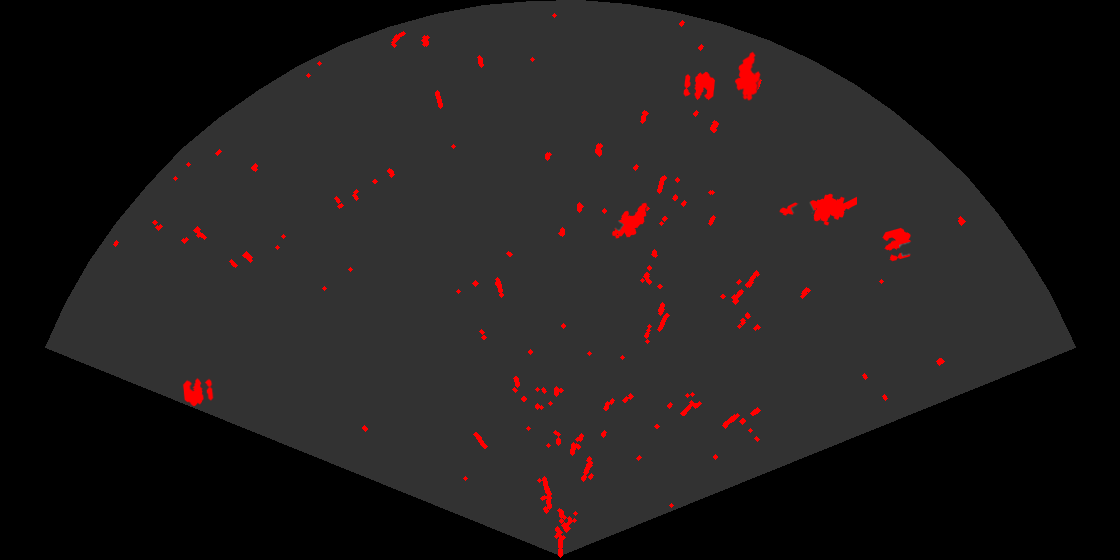AUV: (610, 201, 649, 240), (733, 50, 762, 102)
ball: (881, 226, 913, 263), (682, 70, 717, 102), (181, 376, 215, 408)
frogman: (778, 192, 857, 227)
